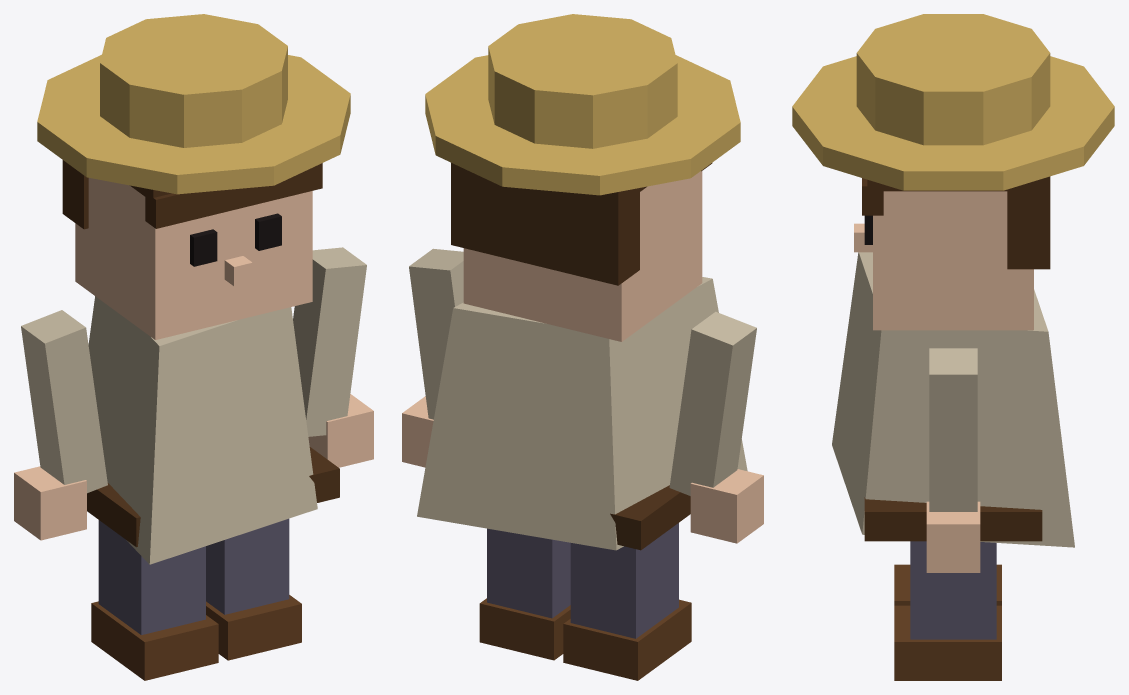
The model's file is VillagerNormal.fbx.
3 views of the same model, side by side, from view 1: azimuth 30°, elevation 25°; view 2: azimuth 150°, elevation 25°; view 3: azimuth 270°, elevation 25° (orthographic).
Parts seen in each view (by area): view 1: VillagerNormal; view 2: VillagerNormal; view 3: VillagerNormal.
Boxes of the visible parts, x1,y1,x2,y2 form: VillagerNormal: [14, 14, 373, 680]; VillagerNormal: [402, 14, 763, 680]; VillagerNormal: [792, 14, 1114, 680].
Bounding box in the file's own units: 0.72 × 1.21 × 0.6.
